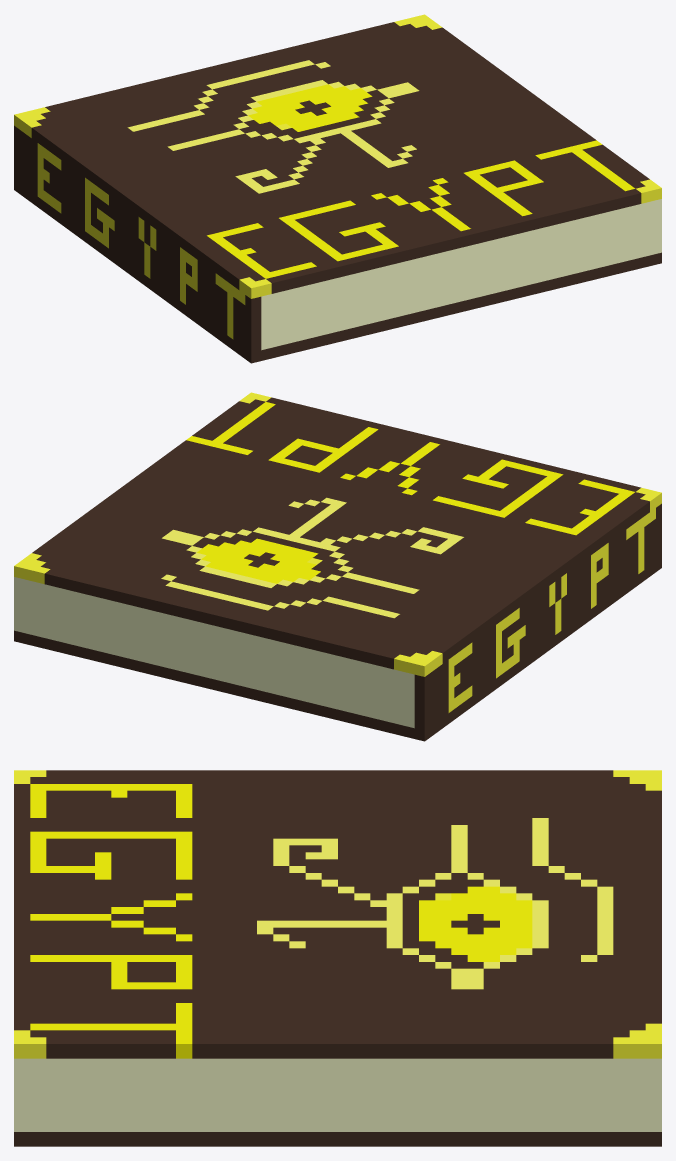
The model's file is book of Egypt.obj.
The picture shows the model from 3 angles, top to bottom: view 1: azimuth 30°, elevation 25°; view 2: azimuth 150°, elevation 25°; view 3: azimuth 270°, elevation 25°; orthographic projection. The views are drawn at different scales.
Size of the model in its own units: 40 by 7 by 40.
Materials: 1 (1 with a texture image).
